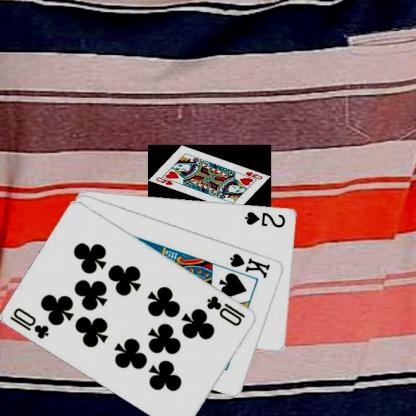10C: (204, 292, 247, 328), (7, 305, 51, 340)
2S: (242, 208, 287, 228)
KS: (227, 250, 272, 280)
